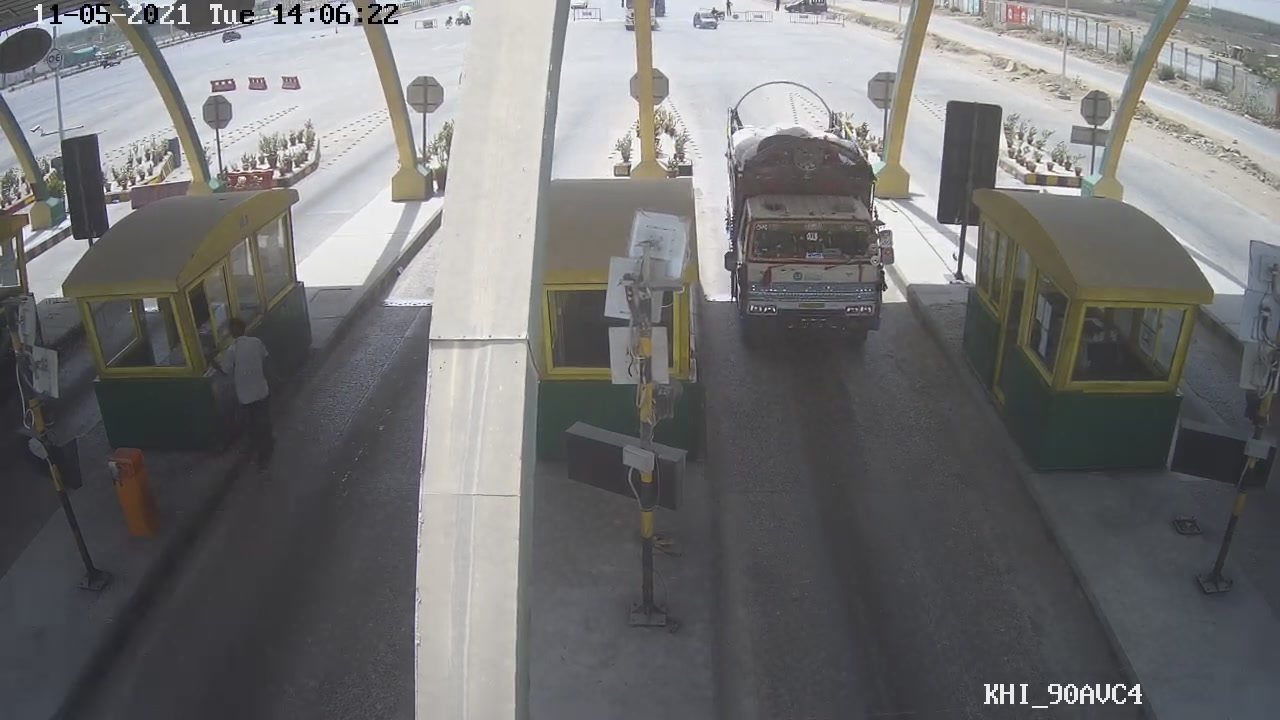F5: (716, 121, 898, 350)
